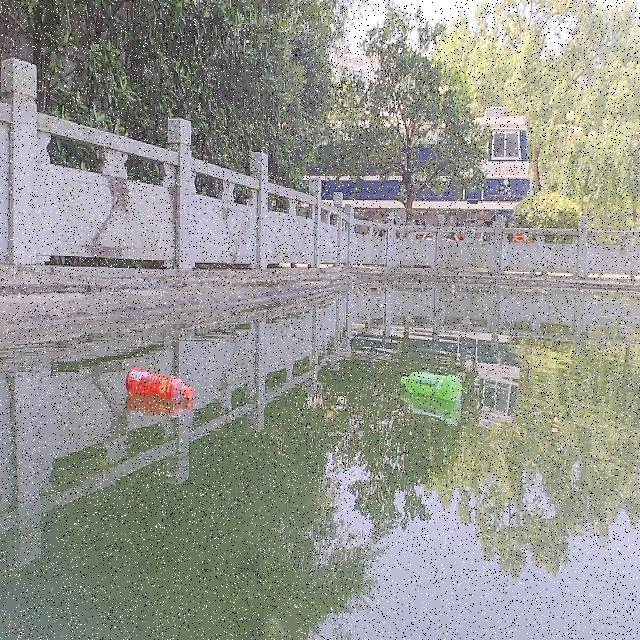bottle: (123, 361, 194, 403), (397, 367, 464, 400)
